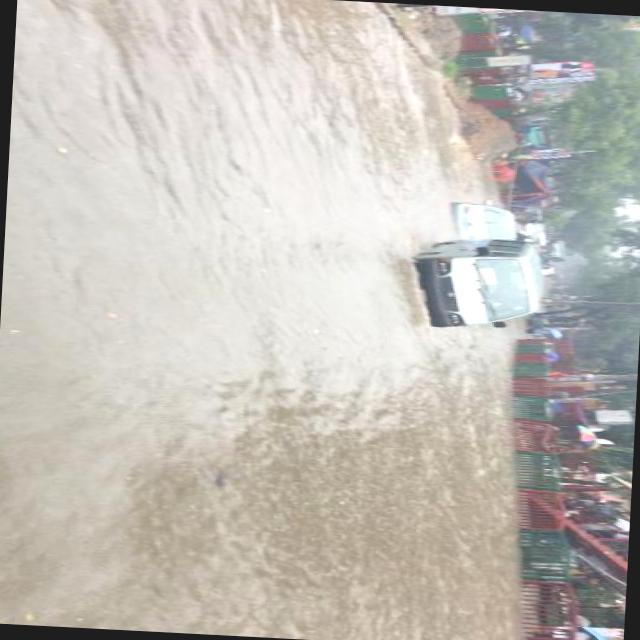car: (452, 193, 524, 240)
truck: (412, 232, 556, 335)
